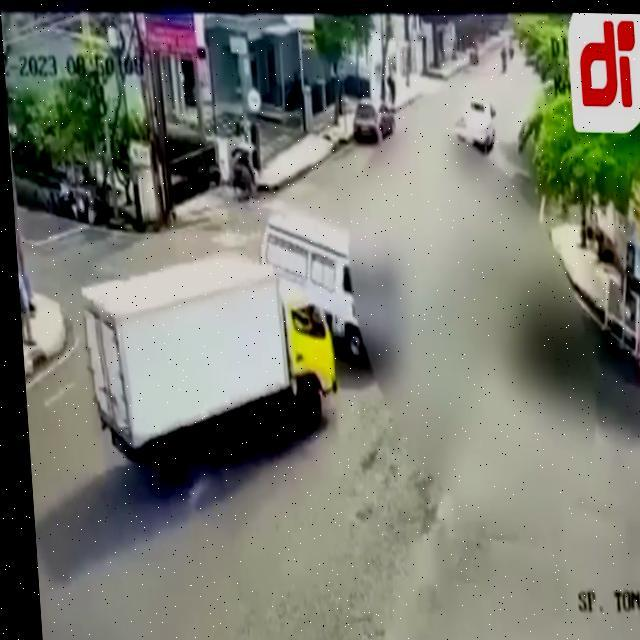normal: (49, 261, 390, 446)
single accident: (326, 211, 443, 376)
